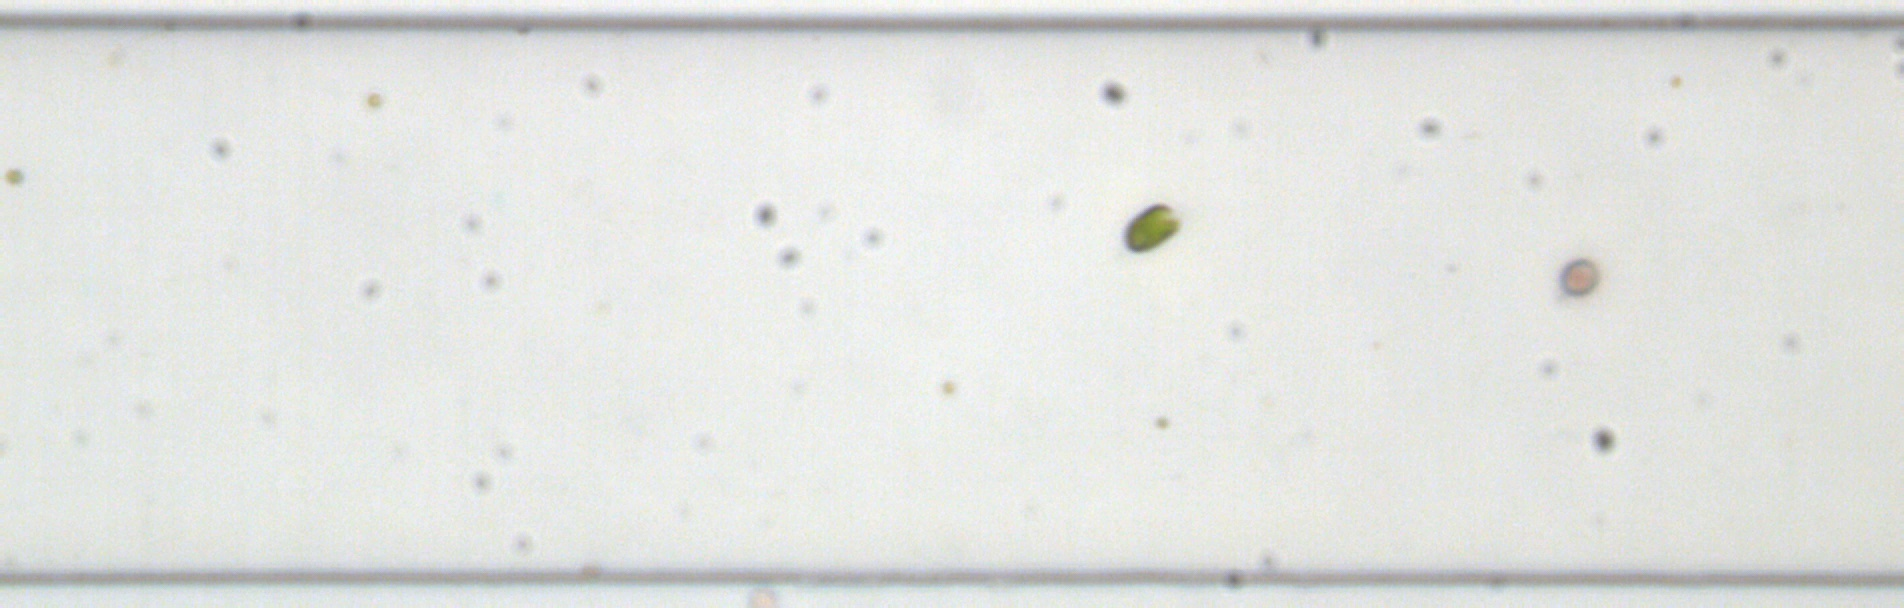Chlorella: (2, 165, 25, 186), (364, 89, 382, 108), (940, 379, 958, 394), (1154, 414, 1169, 430), (1667, 73, 1683, 89)
Platymonas: (1117, 199, 1185, 256)
Porphyridium: (1555, 254, 1600, 297)
